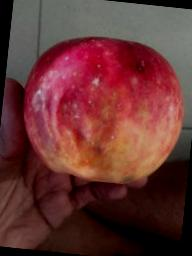Apple Overripe: (11, 23, 192, 196)
